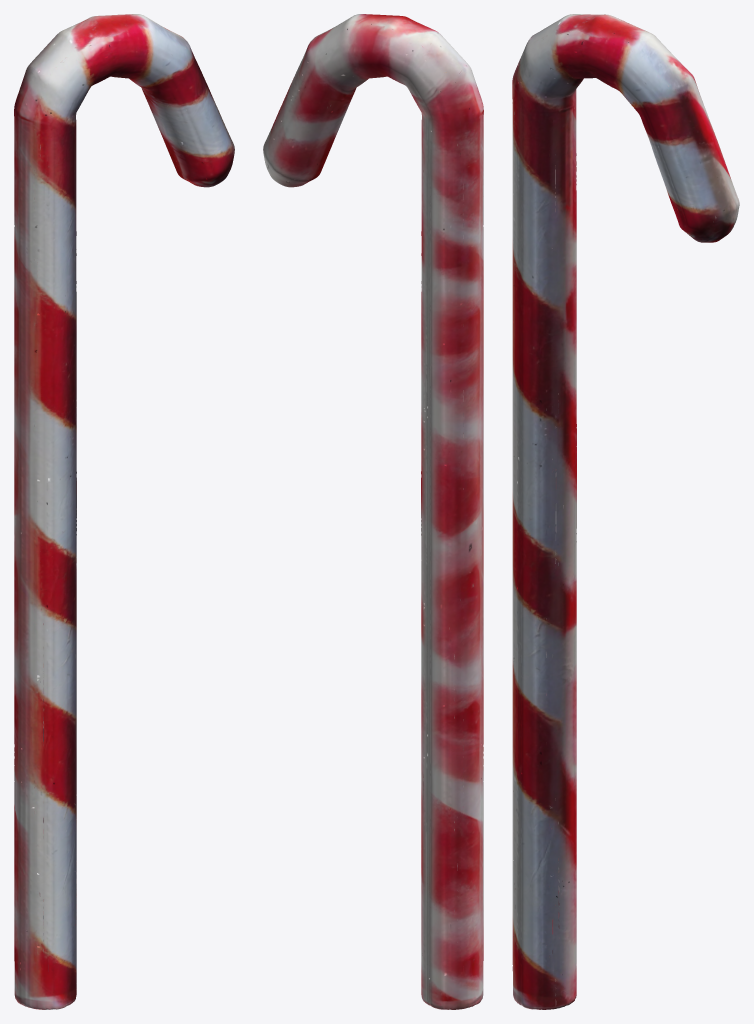
The model's file is pole.glb.
The picture shows the model from 3 angles, left to right: view 1: azimuth 30°, elevation 25°; view 2: azimuth 150°, elevation 25°; view 3: azimuth 330°, elevation 25°; orthographic projection. The views are drawn at different scales.
Size of the model in its own units: 0.4603 by 2 by 0.1189.
1 material, 1 textured.
